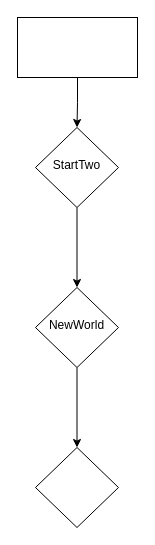
This 155x545 diagram has some shape labels left out. Each missing label, with the centre of its shape:
"Lamp plugged in?" belongs at [76,487].
"Start" belongs at [77,47].
